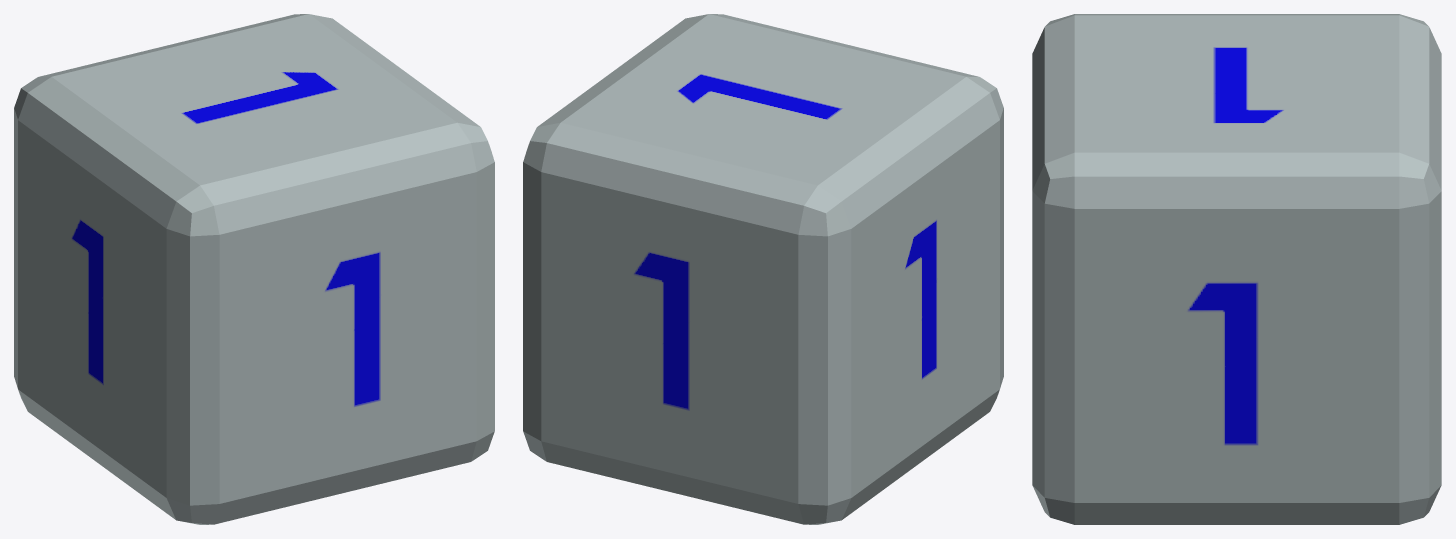
The model's file is cubeOne.glb.
3 views of the same model, side by side, from view 1: azimuth 30°, elevation 25°; view 2: azimuth 150°, elevation 25°; view 3: azimuth 270°, elevation 25° (orthographic). The views are drawn at different scales.
Visible parts, largest first — view 1: Cube; view 2: Cube; view 3: Cube.
Boxes of the visible parts, box(x1,y1,x2,y2) form: Cube: box(14, 14, 494, 524); Cube: box(523, 14, 1003, 524); Cube: box(1032, 14, 1441, 524).
Bounding box in the file's own units: 2 × 2 × 2.
Materials: 1 (1 with a texture image).
